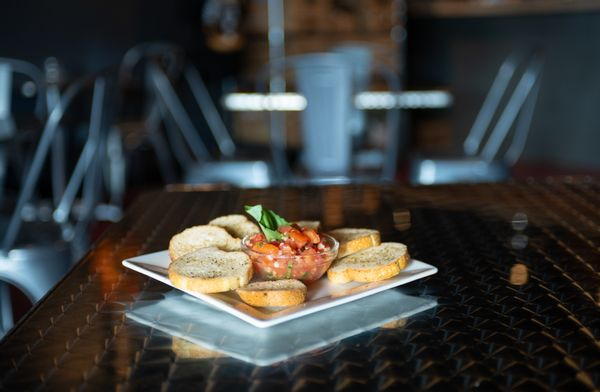soup: (166, 225, 252, 294), (327, 241, 411, 298), (236, 278, 308, 310), (327, 227, 381, 258)
